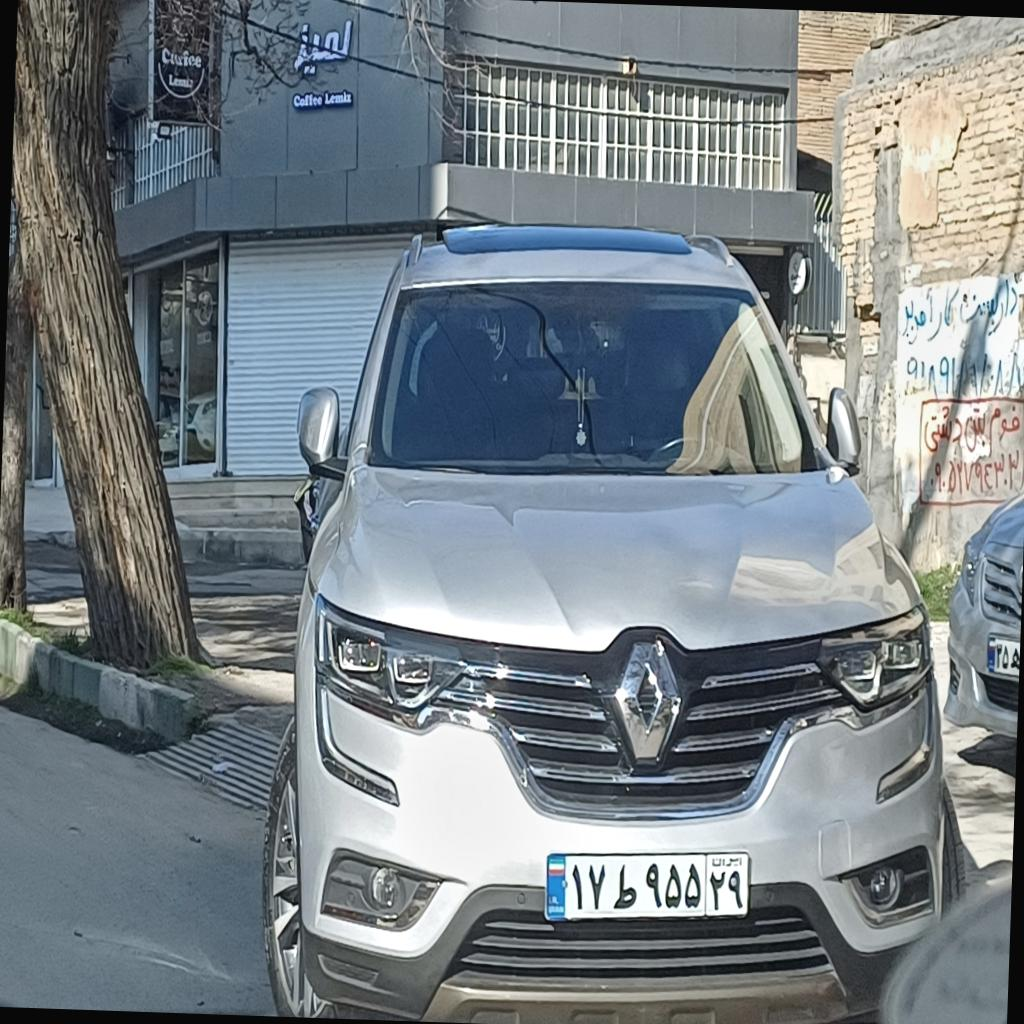Plates: (544, 844, 750, 928)
